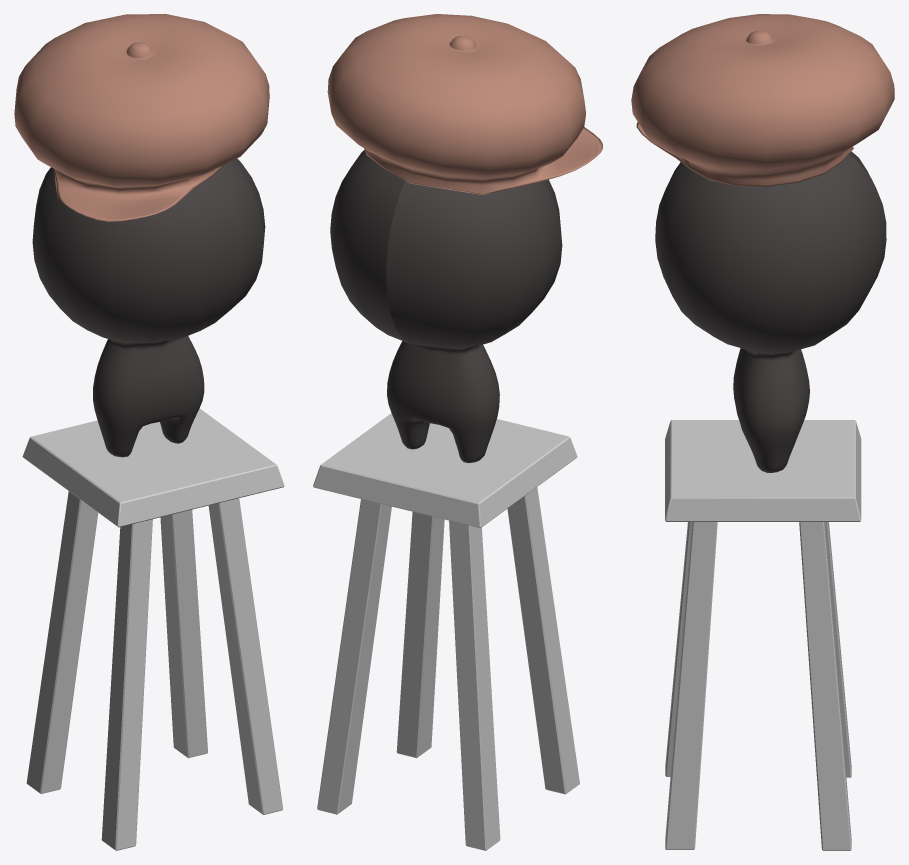
File: 售票員.fbx
The picture shows the model from 3 angles, left to right: view 1: azimuth 30°, elevation 25°; view 2: azimuth 150°, elevation 25°; view 3: azimuth 270°, elevation 25°; orthographic projection.
Parts seen in each view (by area): view 1: hat2, chair2; view 2: hat2, chair2; view 3: hat2, chair2.
Boxes of the visible parts, box(x1,y1,x2,y2) form: hat2: box(14, 14, 269, 457); chair2: box(22, 408, 284, 850); hat2: box(327, 14, 602, 462); chair2: box(313, 413, 579, 850); hat2: box(631, 14, 894, 472); chair2: box(665, 420, 861, 850).
Size of the model in its own units: 321 by 1036 by 321.
